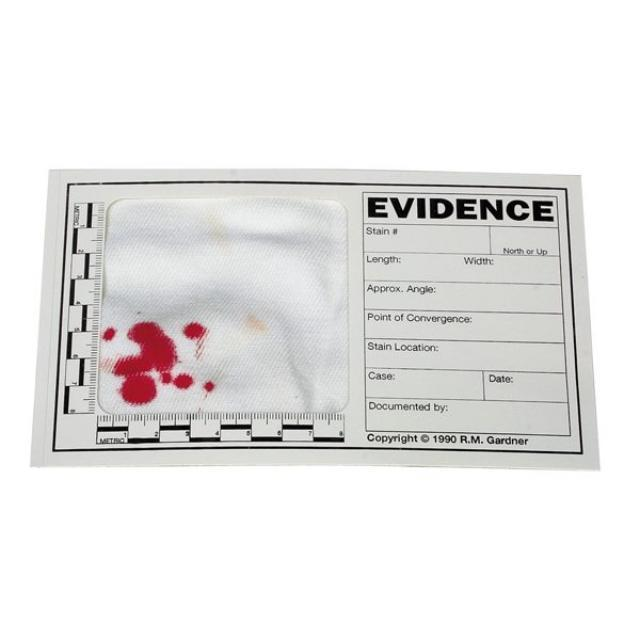blood: (112, 322, 193, 405), (183, 322, 206, 339), (102, 327, 115, 340), (204, 382, 214, 391)
